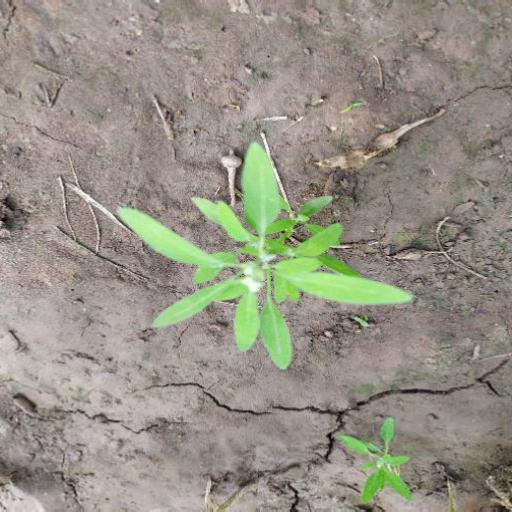weed: (101, 136, 428, 370)
